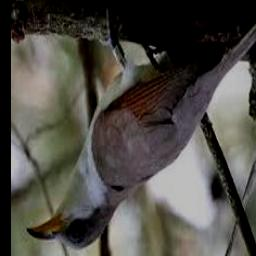Cuckoo: (28, 0, 256, 250)
